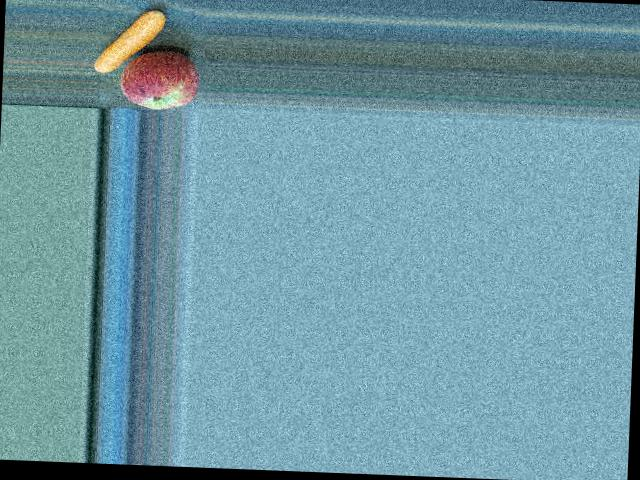carrot: (94, 5, 175, 79)
